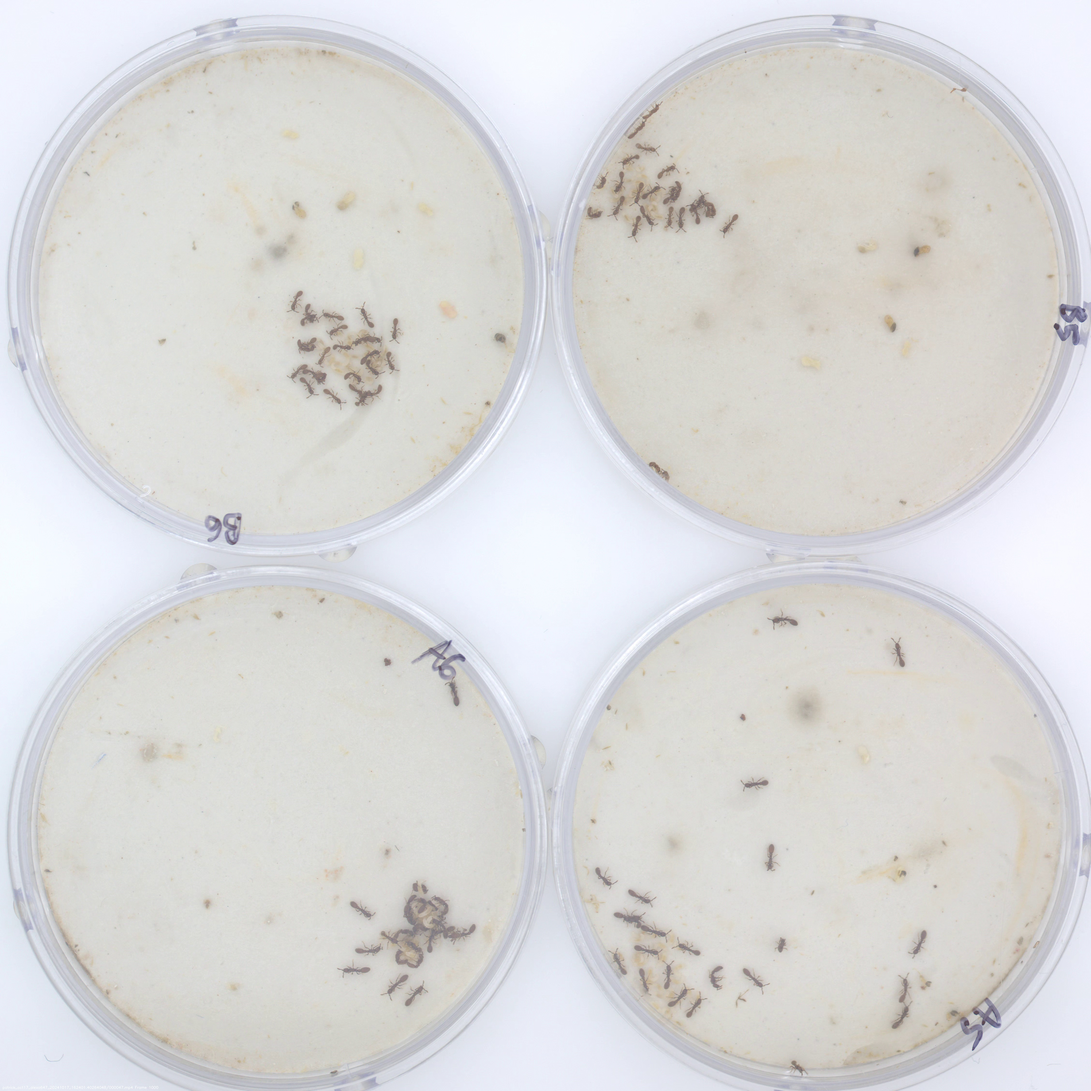brood: (377, 877, 445, 965), (312, 331, 376, 385), (621, 166, 653, 210), (361, 343, 389, 376), (643, 187, 669, 221), (651, 1002, 681, 1025), (654, 989, 684, 1007), (642, 968, 663, 990), (650, 943, 668, 968), (668, 964, 686, 985), (624, 213, 642, 232), (632, 952, 650, 969), (610, 182, 624, 202), (627, 931, 647, 942), (665, 929, 674, 945), (364, 375, 377, 386), (648, 928, 662, 937), (693, 995, 703, 1007)
